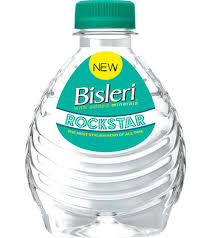Bisleri: (69, 82, 146, 111), (77, 3, 137, 26)
plastic: (67, 49, 163, 237)
